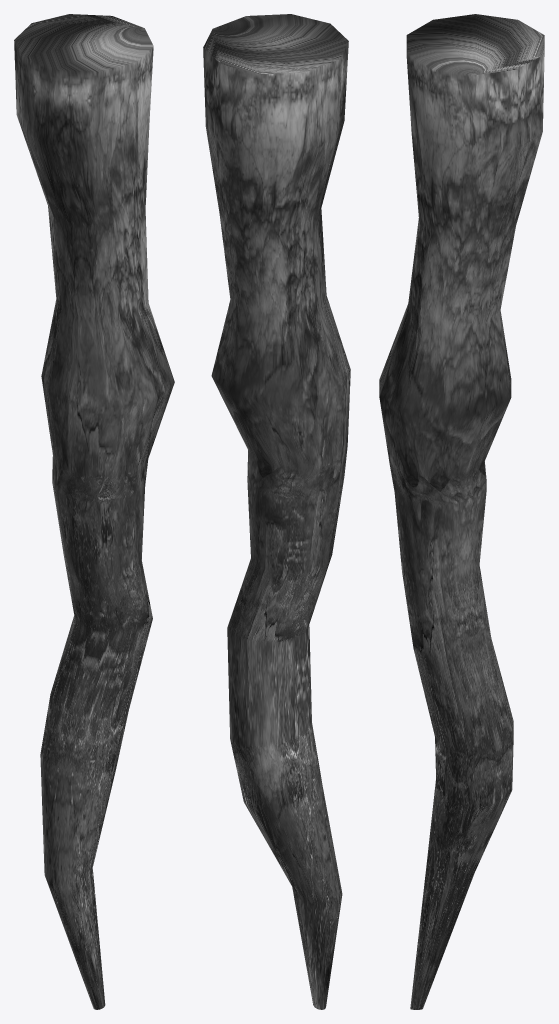
Rendered from stalag3.obj.
3 renders of one model, left to right at view 1: azimuth 30°, elevation 25°; view 2: azimuth 150°, elevation 25°; view 3: azimuth 270°, elevation 25°, orthographic. The views are drawn at different scales.
Visible parts, largest first — view 1: stalag1; view 2: stalag1; view 3: stalag1.
Boxes of the visible parts, x1,y1,x2,y2 form: stalag1: (14, 14, 174, 1009); stalag1: (203, 14, 350, 1009); stalag1: (379, 14, 544, 1009).
Bounding box in the file's own units: 17.01 × 119 × 18.31.
Materials: 1 (1 with a texture image).
